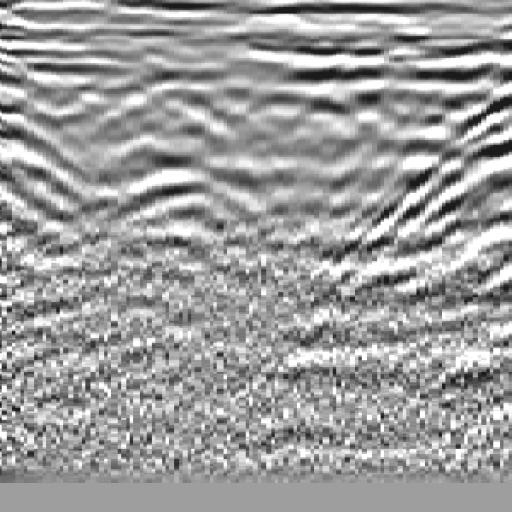metalic: (85, 36, 278, 281)
nonmetalic: (370, 27, 512, 298)
